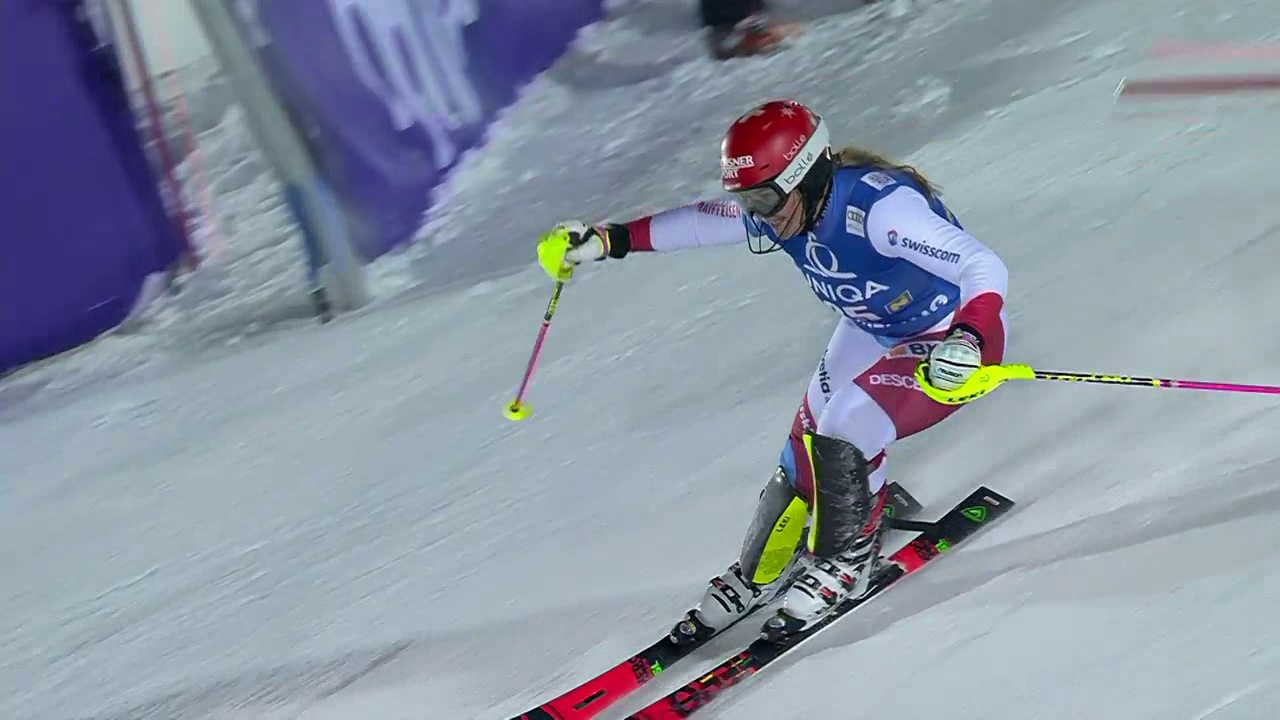milka: (309, 7, 502, 163)
uniqa: (795, 244, 889, 308)
